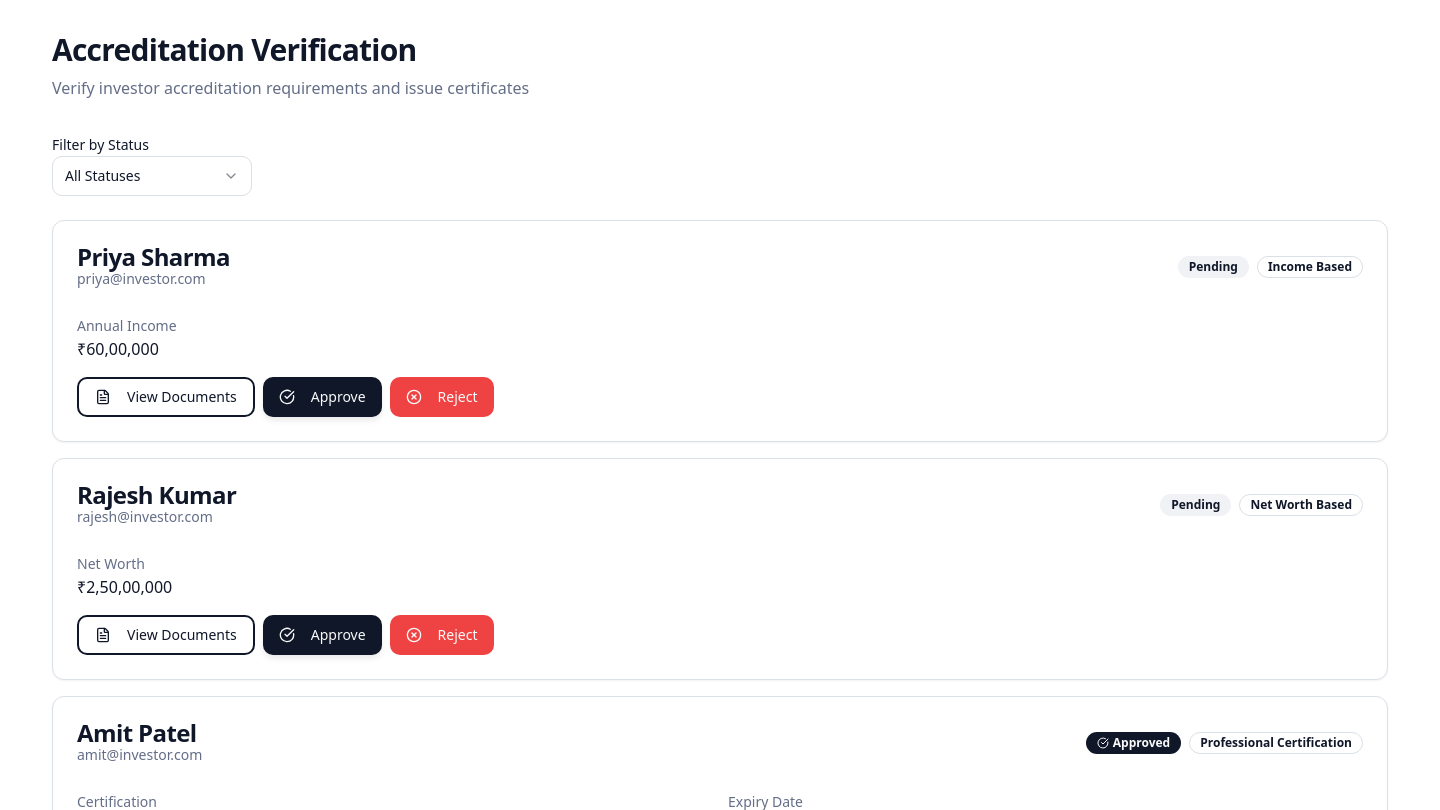
Test: US-COMPLIANCE-003: Accreditation Verification › Filter Applications › should filter applications by pending status
The width and height of the screenshot is (1440, 810).
Expected: the text "Priya Sharma" is shown, [77,245,230,269]
Click the dropdown named "Filter by Status": (152, 176) [52,156,252,196]
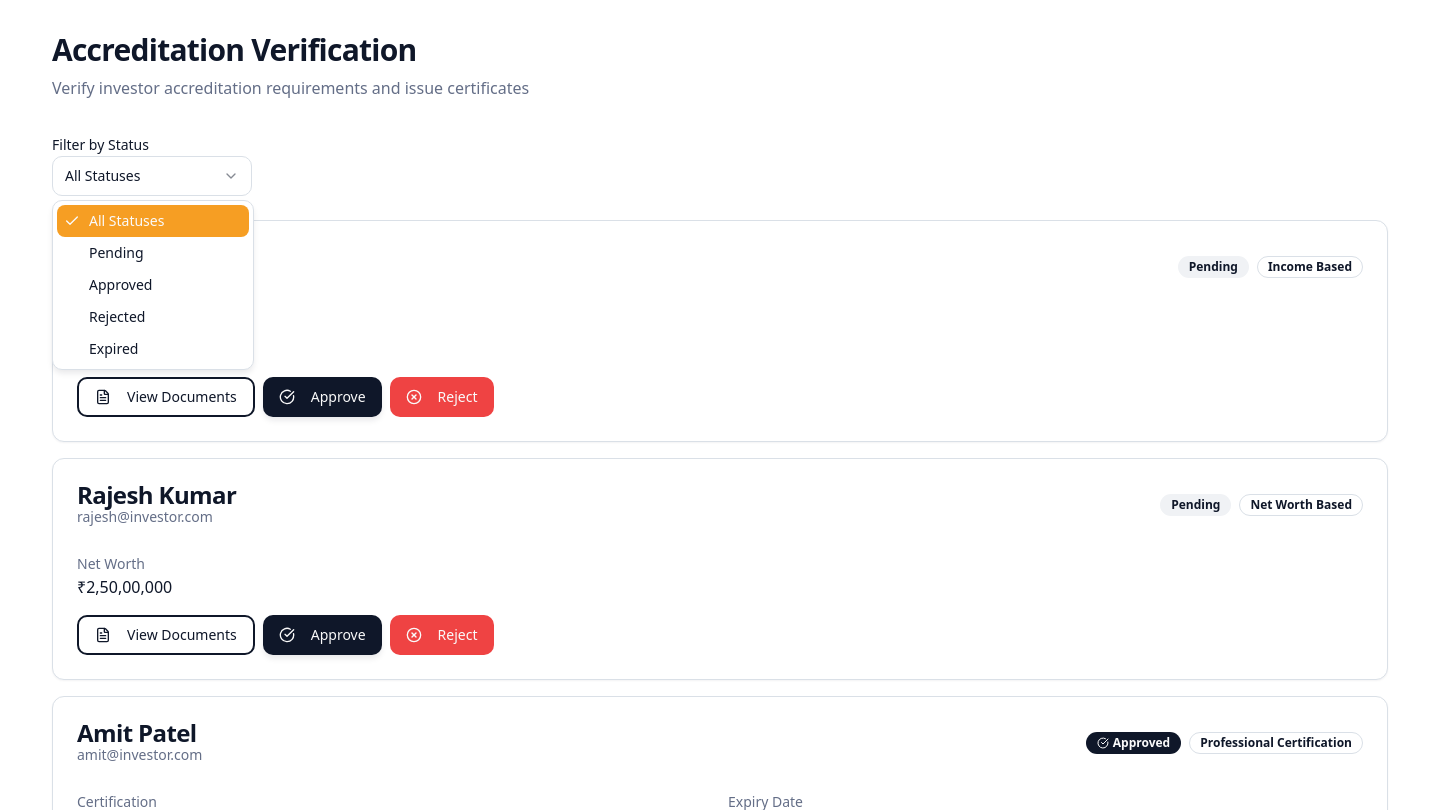
Expected: the option "Pending" is shown
Click the option "Pending": (116, 252) [89,243,144,262]
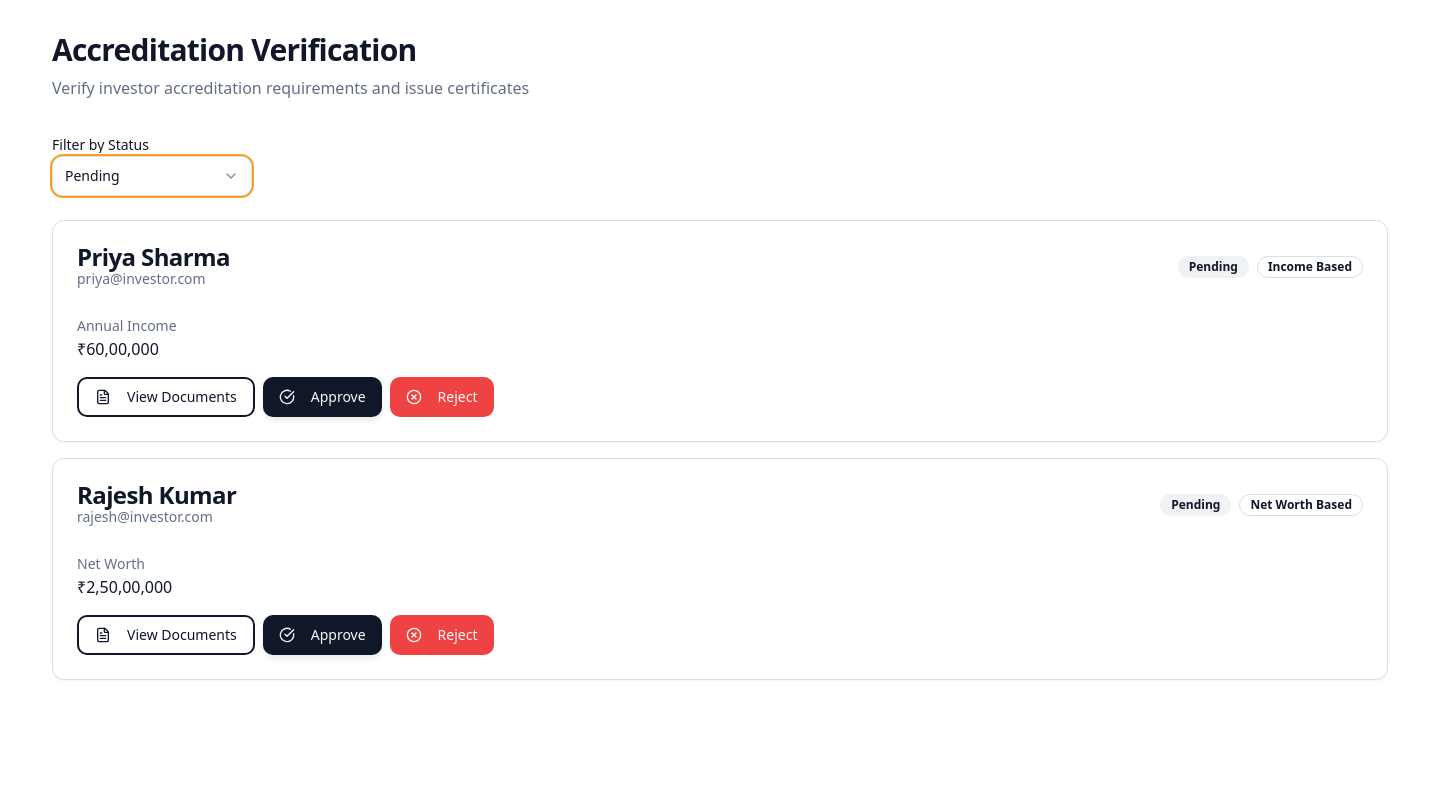
Expected: the text "Priya Sharma" is shown, [77,245,230,269]
Expected: the text "Amit Patel" is gone
